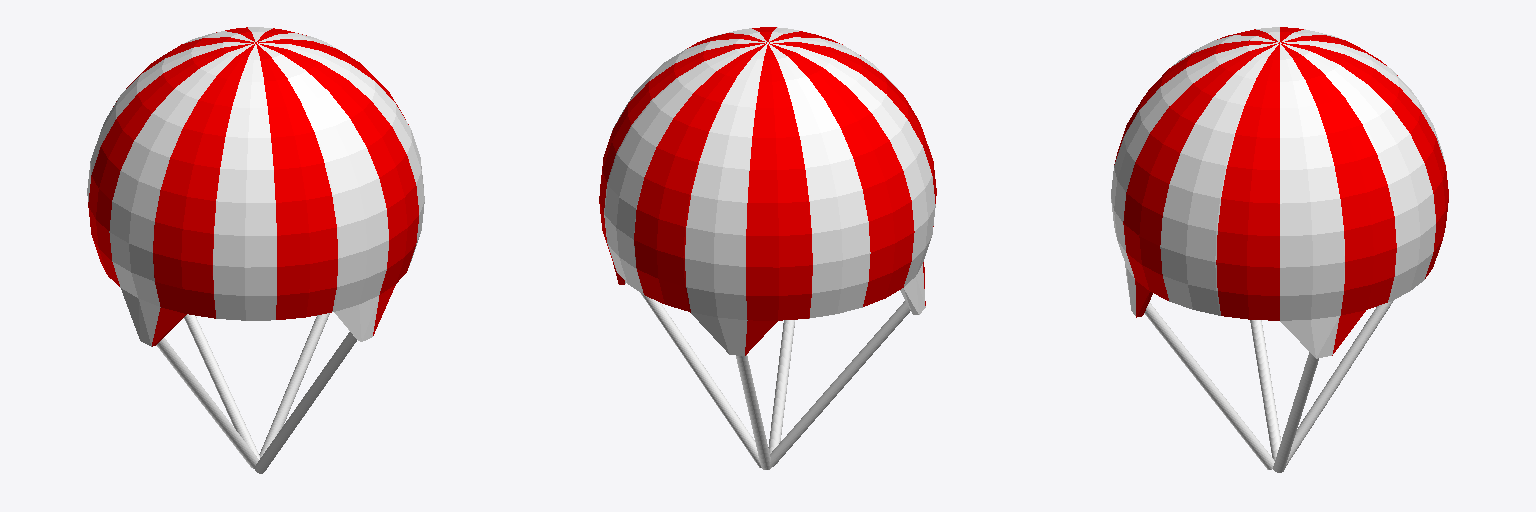
The picture shows the model from 3 angles: view 1: azimuth 30°, elevation 25°; view 2: azimuth 150°, elevation 25°; view 3: azimuth 270°, elevation 25°; orthographic projection.
Visible parts, largest first — view 1: 円柱; view 2: 円柱; view 3: 円柱.
Boxes of the visible parts, x1,y1,x2,y2 form: 円柱: [87, 27, 424, 473]; 円柱: [599, 27, 936, 469]; 円柱: [1111, 27, 1448, 472].
Size of the model in its own units: 2.35 by 3.26 by 2.35.
1 materials, 1 textured.